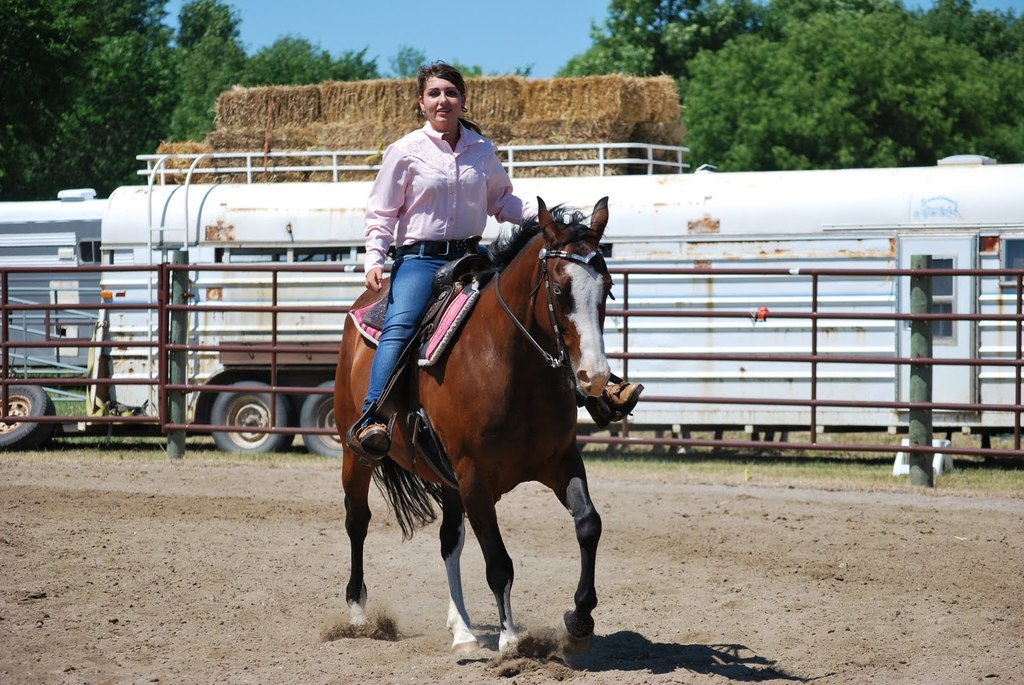horse: (332, 195, 615, 672)
